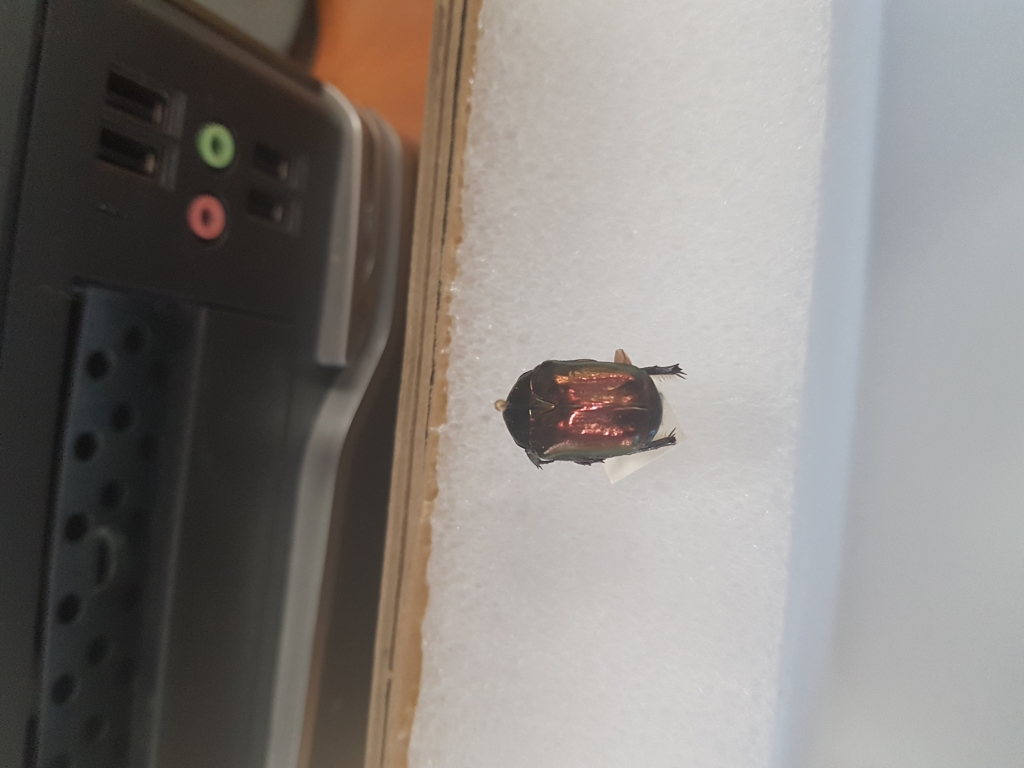Protaetia_cuprea_ignicollis: (491, 346, 695, 480)
